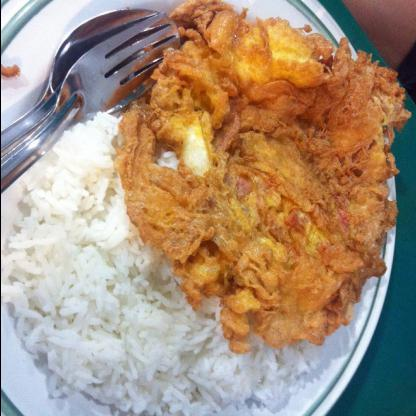Omelette: (0, 0, 380, 410)
